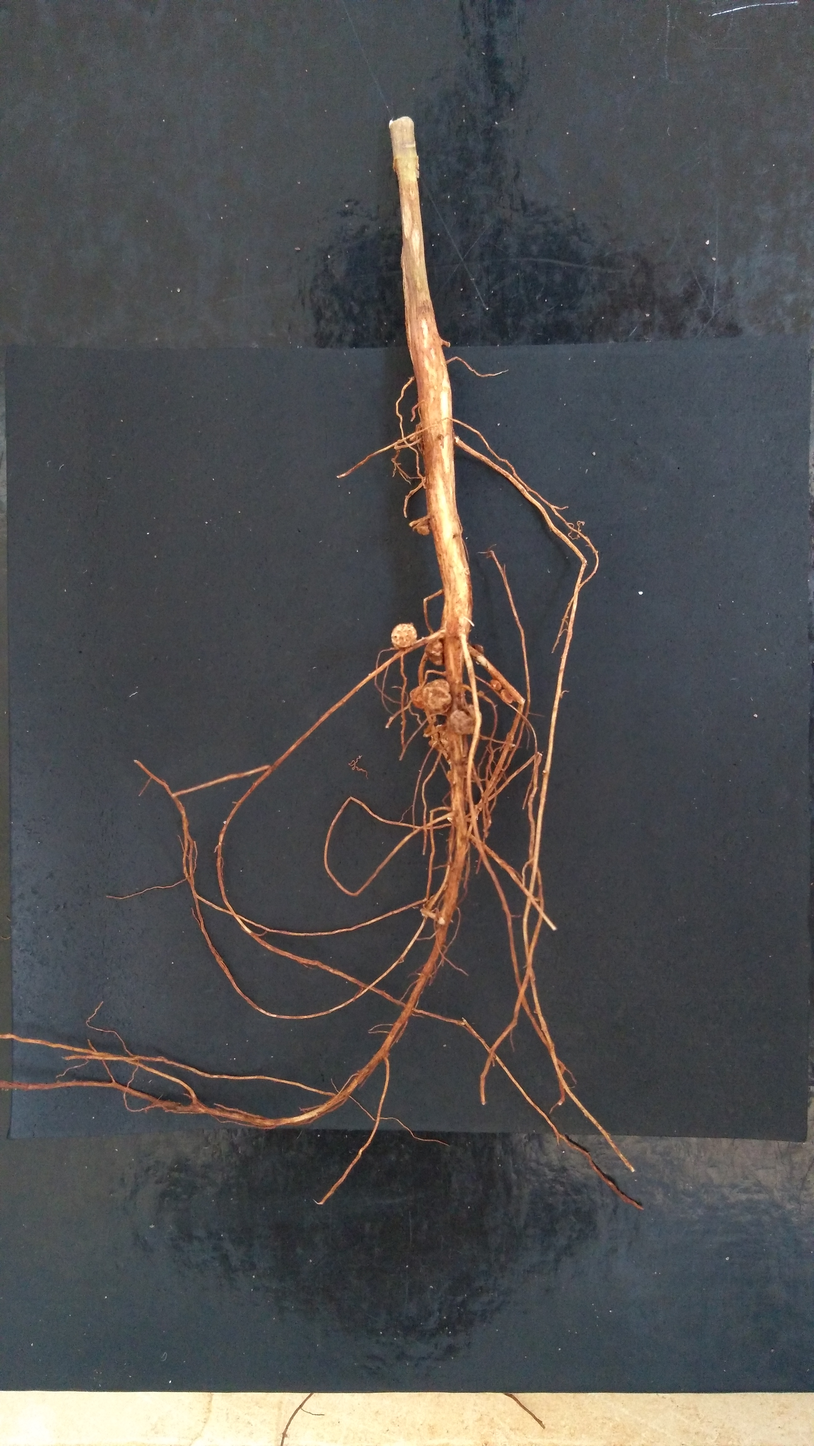nodule: (420, 676, 454, 716), (389, 620, 419, 651), (448, 708, 477, 738), (424, 638, 445, 670), (409, 682, 427, 712), (414, 518, 431, 540), (487, 677, 503, 693), (500, 689, 514, 706), (473, 642, 486, 654)
